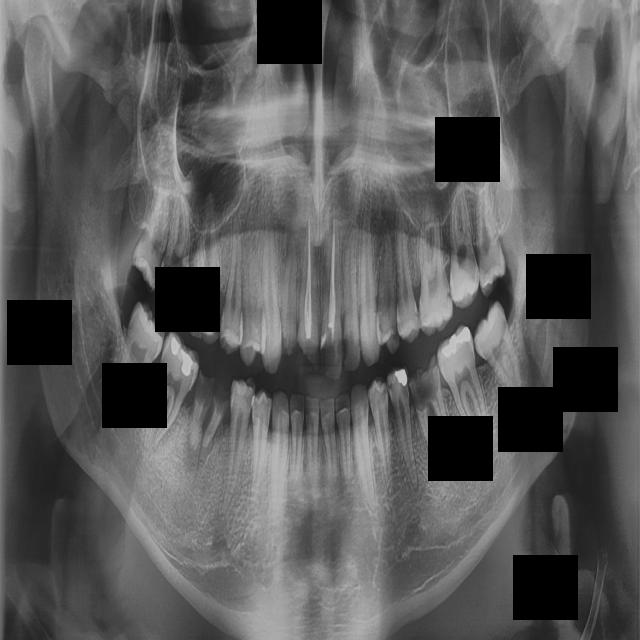72: (199, 381, 233, 454), (186, 371, 215, 450)
74: (326, 216, 340, 331), (302, 217, 312, 339)
NucleOSS Implant: (439, 325, 475, 359), (181, 347, 196, 378), (394, 367, 412, 388), (167, 337, 183, 359)
Sterngold Implant: (400, 354, 456, 412), (298, 333, 326, 373), (201, 298, 222, 337), (318, 338, 338, 371), (477, 260, 499, 283), (387, 311, 400, 343), (282, 329, 296, 354), (442, 280, 453, 303), (400, 381, 410, 401), (375, 315, 384, 337), (336, 337, 343, 365), (411, 303, 420, 323), (395, 315, 405, 333), (244, 390, 253, 409), (343, 338, 350, 362), (386, 379, 393, 398), (381, 383, 389, 398), (357, 332, 360, 349)
